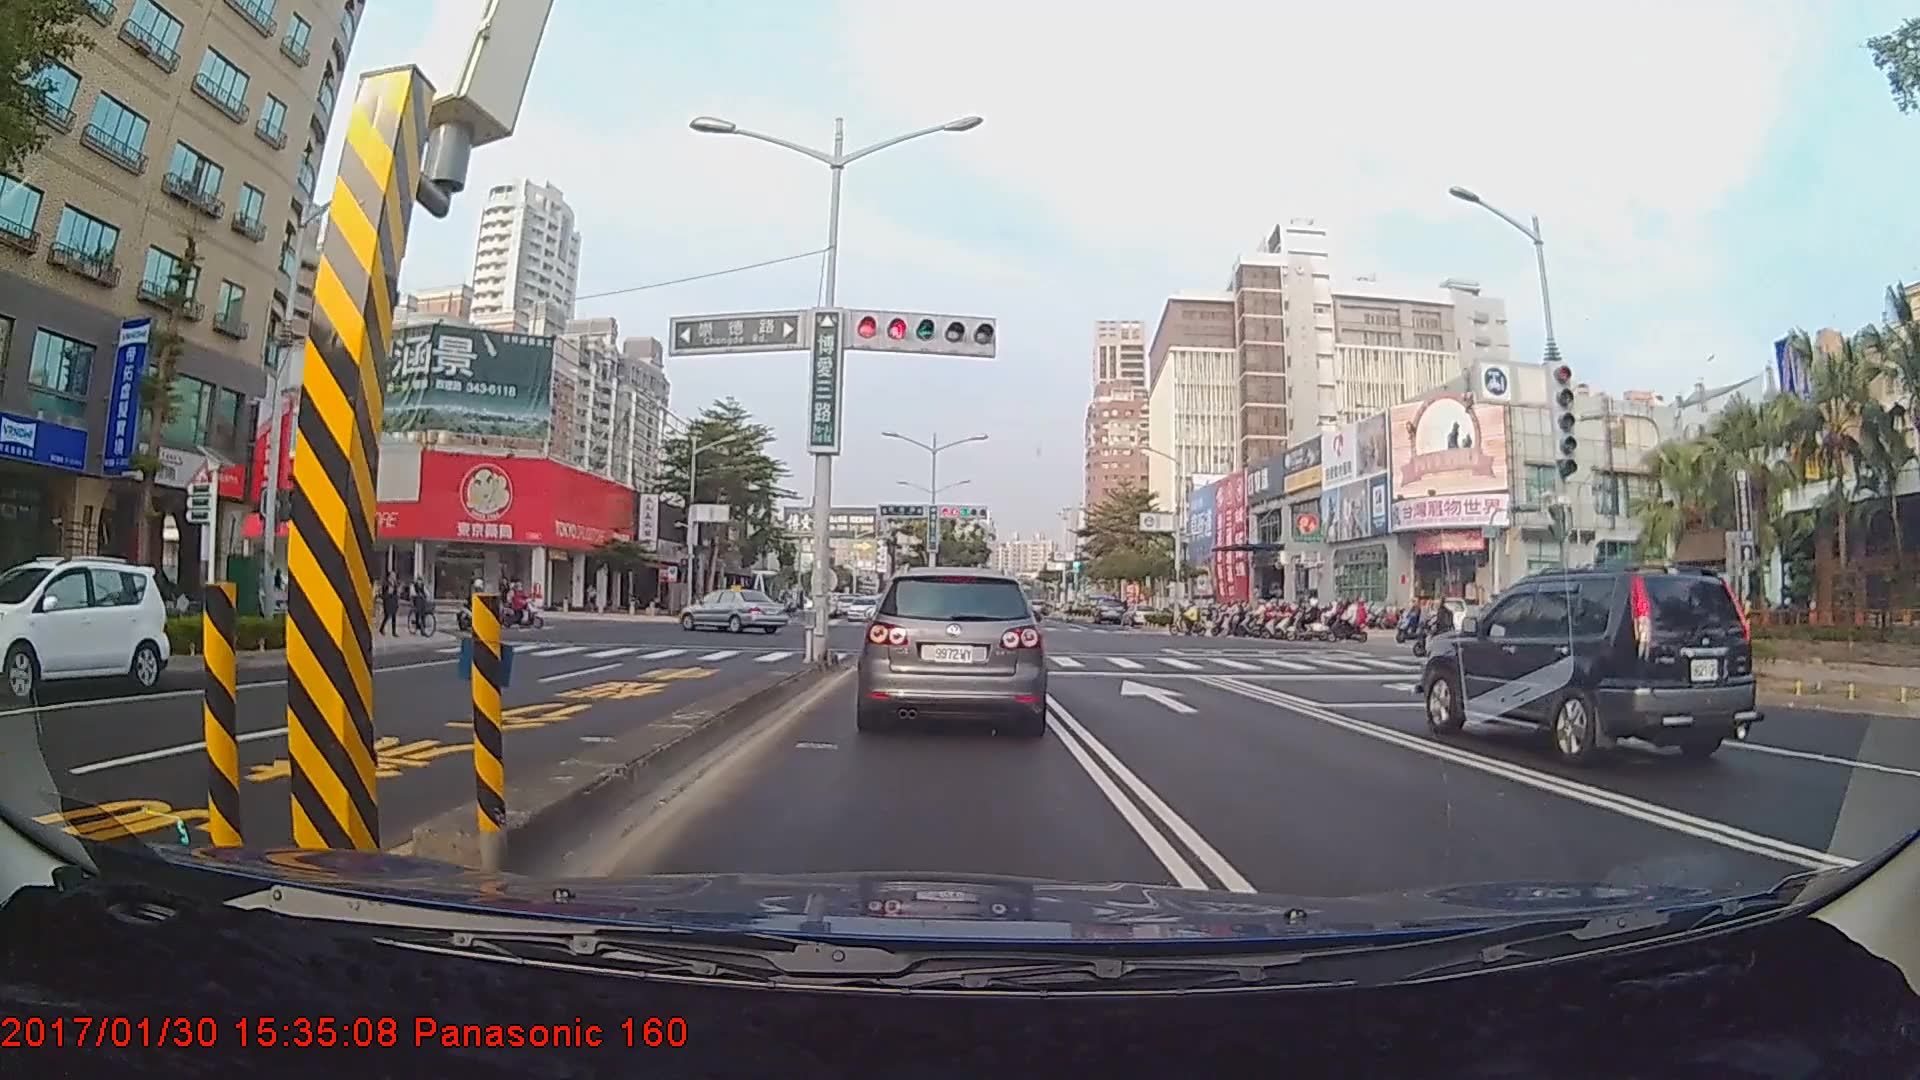pedestrian: (379, 566, 403, 640)
rider: (1324, 594, 1375, 644), (1302, 601, 1348, 641), (1171, 601, 1207, 636)
vehicle: (1418, 568, 1764, 770), (863, 567, 1048, 730), (0, 558, 169, 700), (677, 584, 795, 633), (1093, 597, 1124, 624)
